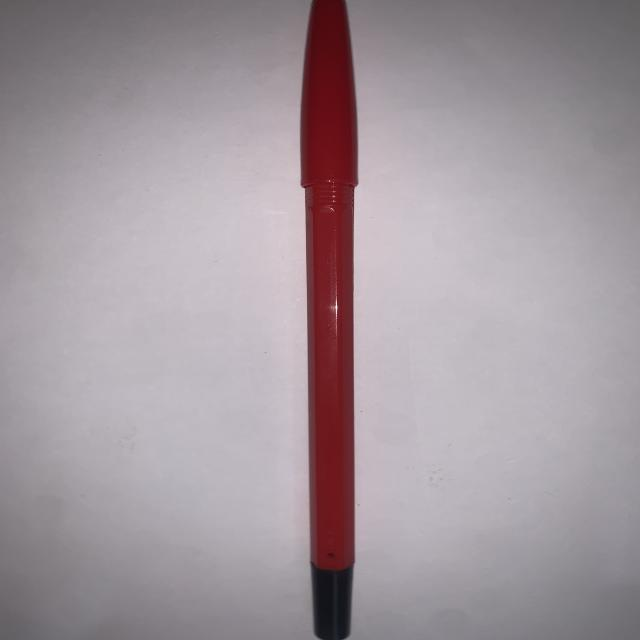Pulpen: (277, 0, 390, 640)
